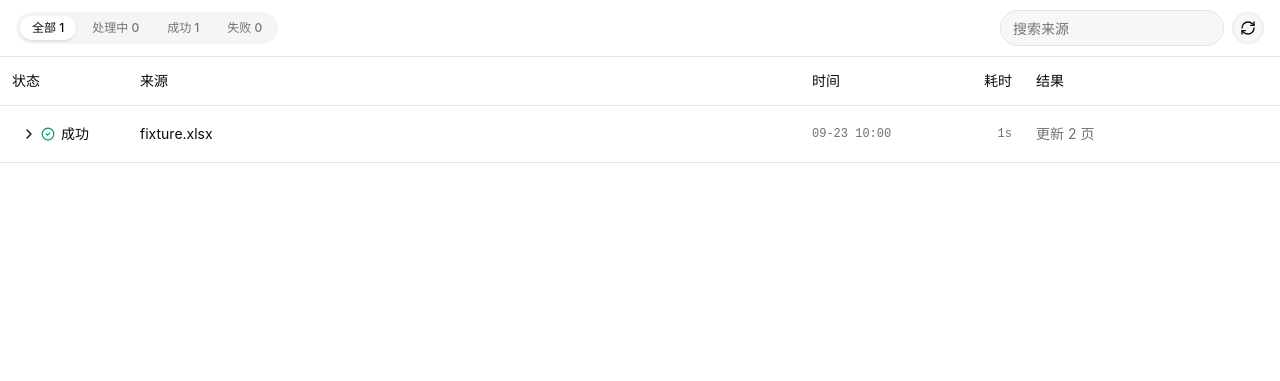
falls back to file names for missing and blank wiki titles
Click the button "成功" at [57, 134], box [12,118,102,150]
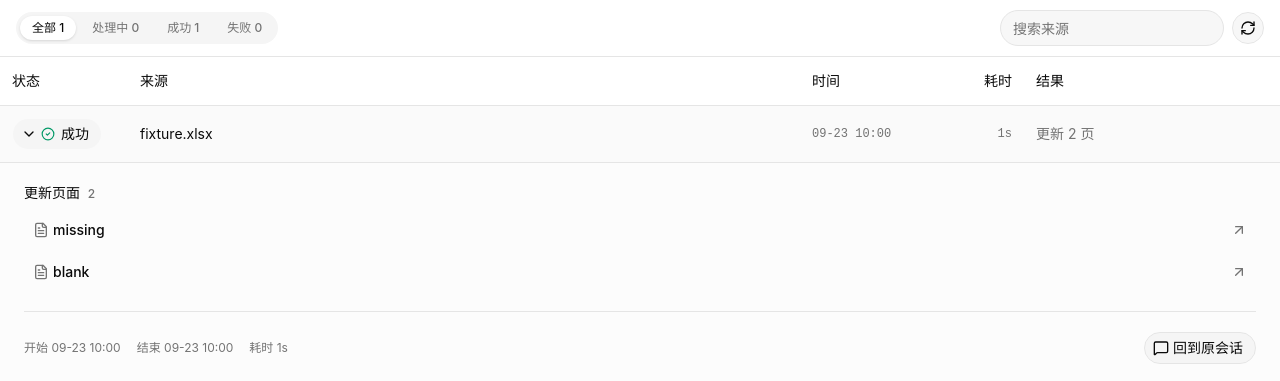
Expected: the button titled "sources/missing.md" is shown, [24,210,1256,248]
Expected: the button titled "projects/blank.MD" is shown, [24,252,1256,290]
